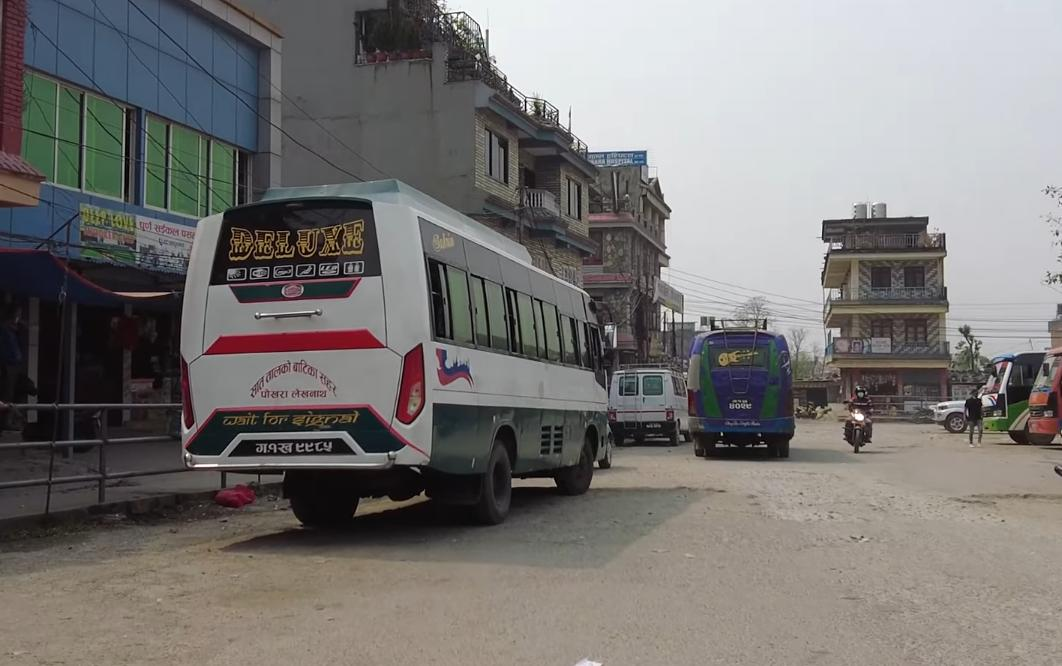bus: (170, 160, 612, 537), (678, 311, 800, 459), (969, 340, 1053, 446), (1028, 343, 1062, 442)
micro_bus: (609, 363, 696, 451)
